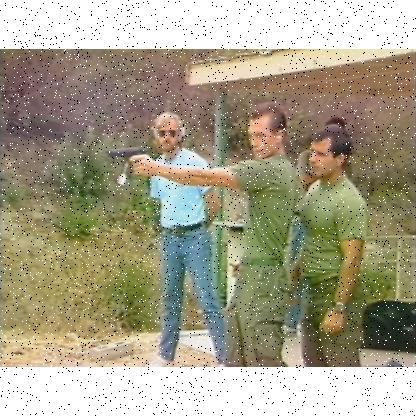gun: (103, 142, 149, 172)
